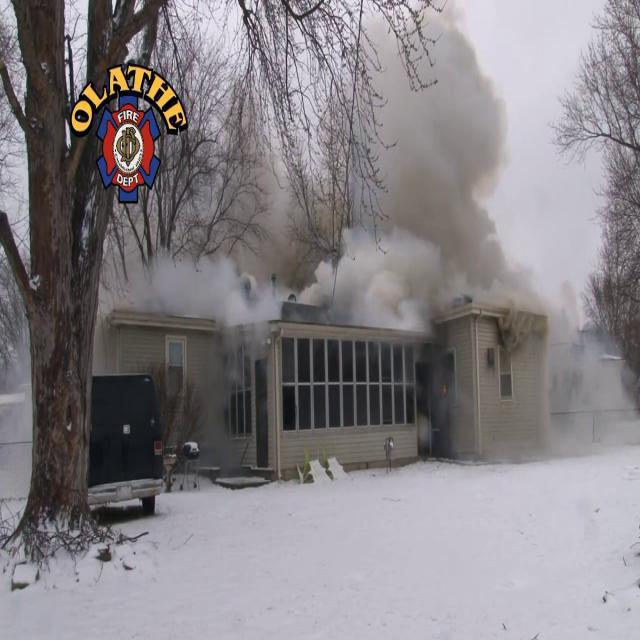Smoke: (195, 0, 541, 340)
